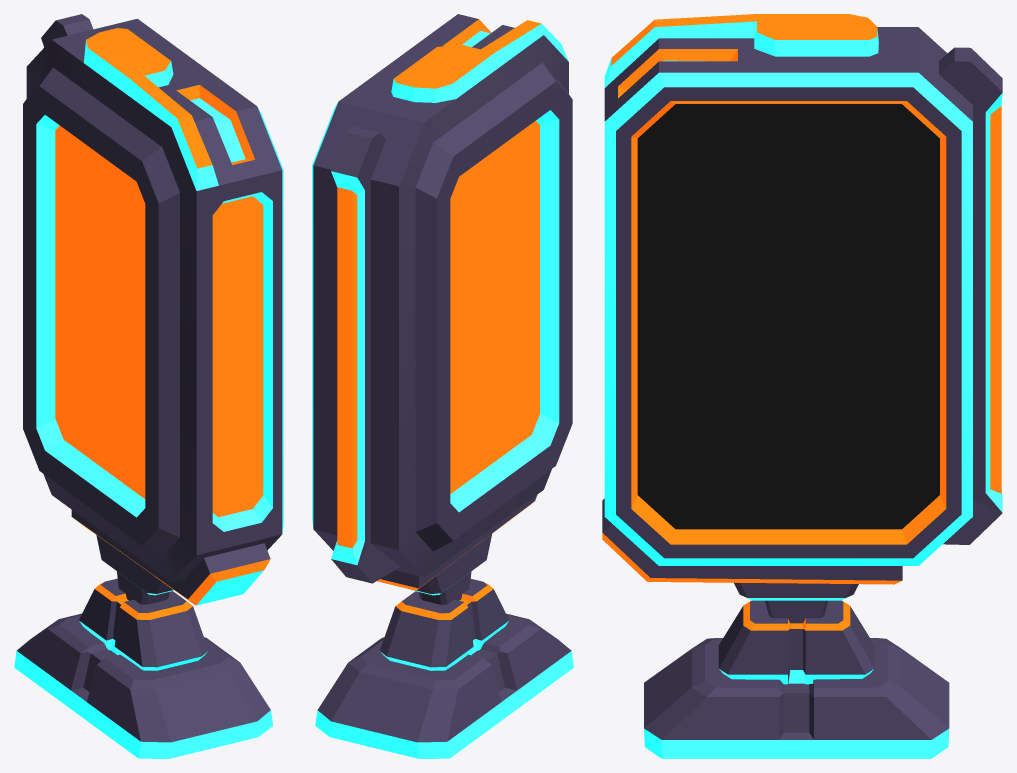
The model's file is Leader_Bord.fbx.
The picture shows the model from 3 angles, left to right: view 1: azimuth 30°, elevation 25°; view 2: azimuth 150°, elevation 25°; view 3: azimuth 270°, elevation 25°; orthographic projection. The views are drawn at different scales.
Visible parts, largest first — view 1: Leader_Bord; view 2: Leader_Bord; view 3: Leader_Bord.
Boxes of the visible parts, x1,y1,x2,y2 form: Leader_Bord: [14, 14, 283, 758]; Leader_Bord: [312, 14, 573, 758]; Leader_Bord: [602, 14, 1002, 758].
Bounding box in the file's own units: 241 × 1092 × 573.
